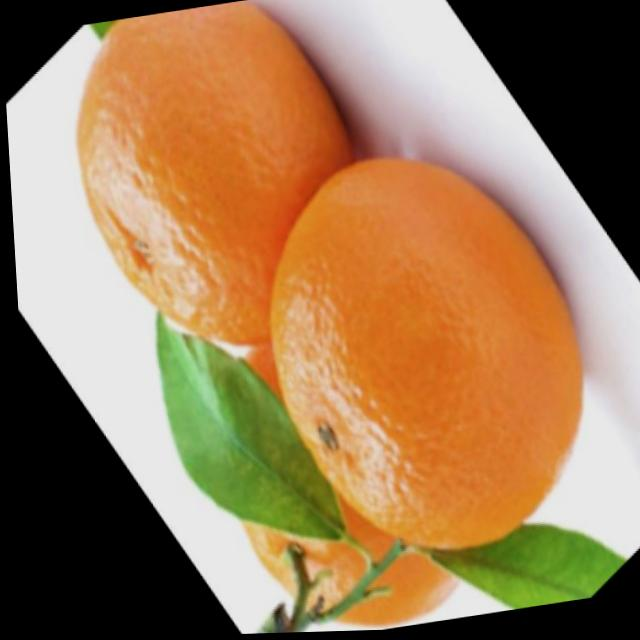Orange: (234, 133, 608, 577), (51, 0, 384, 375)
